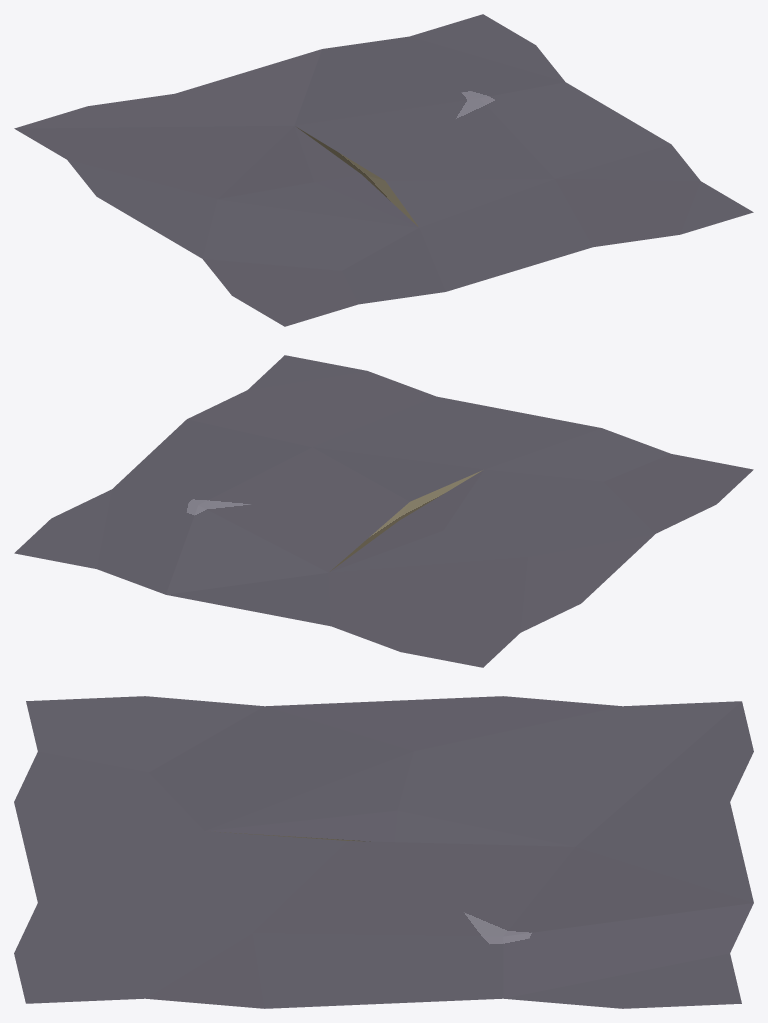
File: Floor_04.fbx
The picture shows the model from 3 angles, top to bottom: view 1: azimuth 30°, elevation 25°; view 2: azimuth 150°, elevation 25°; view 3: azimuth 270°, elevation 25°; orthographic projection. The views are drawn at different scales.
Parts seen in each view (by area): view 1: Floor_04; view 2: Floor_04; view 3: Floor_04.
Boxes of the visible parts, x1,y1,x2,y2 form: Floor_04: [14, 14, 753, 326]; Floor_04: [14, 355, 753, 667]; Floor_04: [14, 696, 753, 1008].
Size of the model in its own units: 103 by 1.84 by 103.
1 material, 1 textured.
